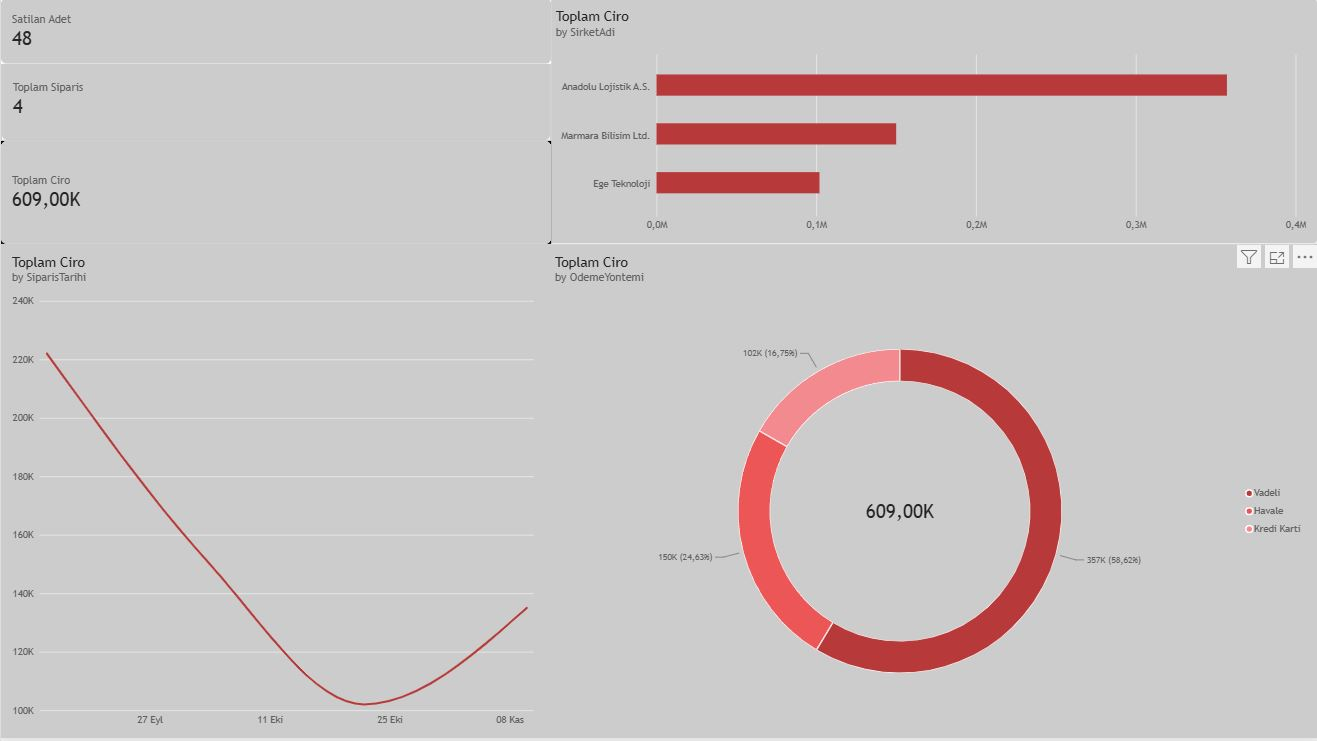

This screenshot's page, from the dashboard's own definition file:
{"tool":"powerbi","page":{"name":"Satış Analizi","canvas":[1920,1080],"ordinal":1},"visuals":[{"type":"lineChart","fields":{"Category":["Siparisler.SiparisTarihi"],"Y":["SiparisDetaylari.Toplam Ciro"]},"box":[0,358.9,802.4,720.7],"z":0},{"type":"donutChart","fields":{"Category":["Siparisler.OdemeYontemi"],"Y":["SiparisDetaylari.Toplam Ciro"]},"box":[792.2,358.9,1127.8,720.7],"z":1000},{"type":"clusteredBarChart","fields":{"Category":["Musteriler.SirketAdi"],"Y":["SiparisDetaylari.Toplam Ciro"]},"box":[792.2,0,1127.8,358.9],"z":2000},{"type":"cardVisual","fields":{"Data":["SiparisDetaylari.Toplam Ciro"]},"box":[0,208.6,802.4,150.3],"z":3000},{"type":"cardVisual","fields":{"Data":["SiparisDetaylari.Toplam Siparis"]},"box":[0,86.1,802.4,122.6],"z":4000},{"type":"cardVisual","fields":{"Data":["SiparisDetaylari.Satilan Adet"]},"box":[0,0,802.4,96.3],"z":5000}]}

Visuals, with their boxes in screenshot pixels (x1, y1, x2, y2), scaled from the page's 1920x1080 canvas onto the 1317x741 screenshot:
lineChart - Siparisler.SiparisTarihi x SiparisDetaylari.Toplam Ciro: box=[0, 246, 550, 740]
donutChart - Siparisler.OdemeYontemi x SiparisDetaylari.Toplam Ciro: box=[543, 246, 1316, 740]
clusteredBarChart - Musteriler.SirketAdi x SiparisDetaylari.Toplam Ciro: box=[543, 0, 1316, 246]
cardVisual - SiparisDetaylari.Toplam Ciro: box=[0, 143, 550, 246]
cardVisual - SiparisDetaylari.Toplam Siparis: box=[0, 59, 550, 143]
cardVisual - SiparisDetaylari.Satilan Adet: box=[0, 0, 550, 66]
